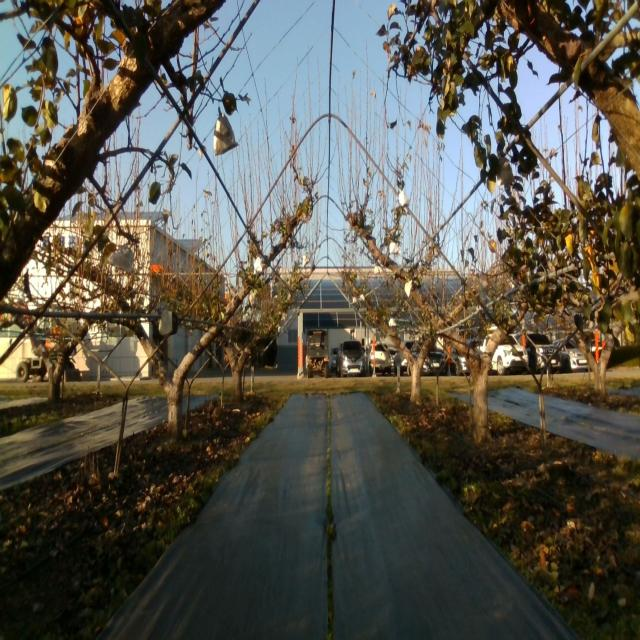pearbags: (214, 108, 239, 158), (108, 244, 134, 272), (497, 157, 515, 185)
